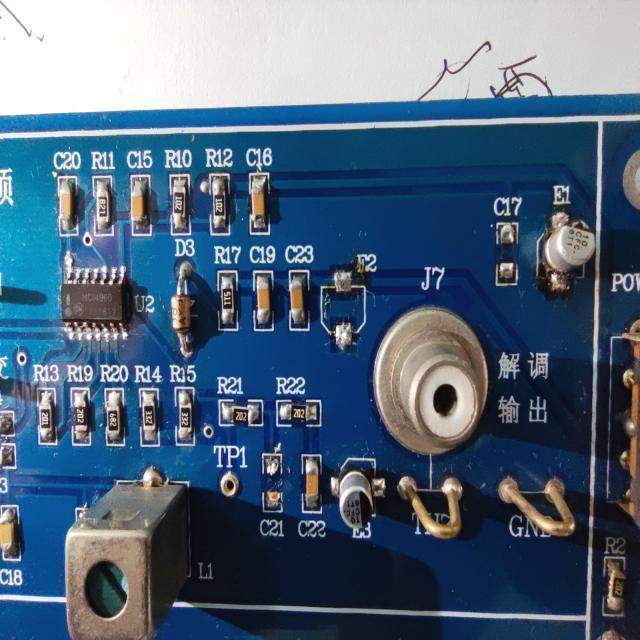Missing component: (317, 245, 380, 358), (484, 183, 524, 295), (253, 447, 291, 542), (0, 406, 16, 472)
